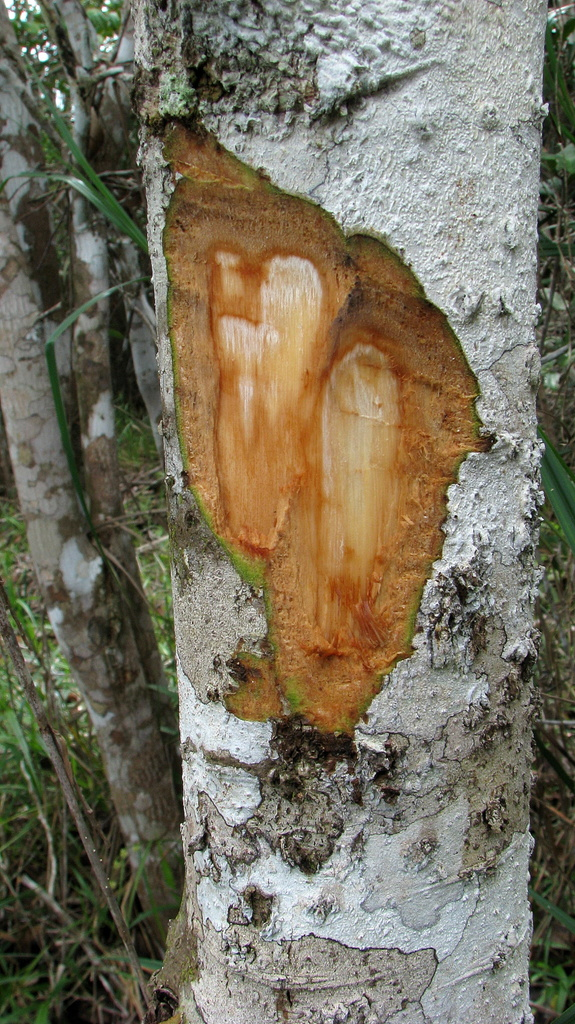Tree: (0, 0, 574, 938), (129, 0, 547, 1023)
